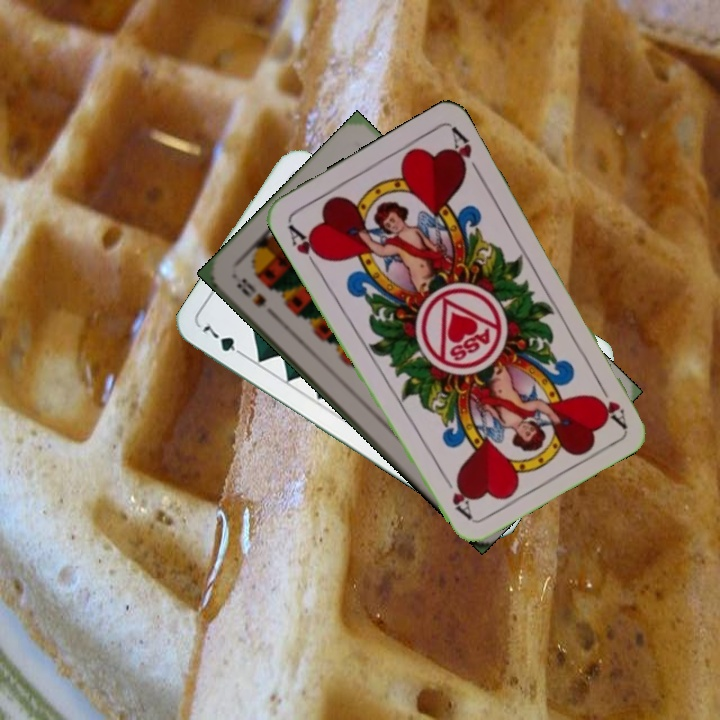G7: (198, 318, 249, 361)
HA: (284, 220, 327, 273), (590, 375, 630, 430)
S8: (232, 273, 269, 310)
